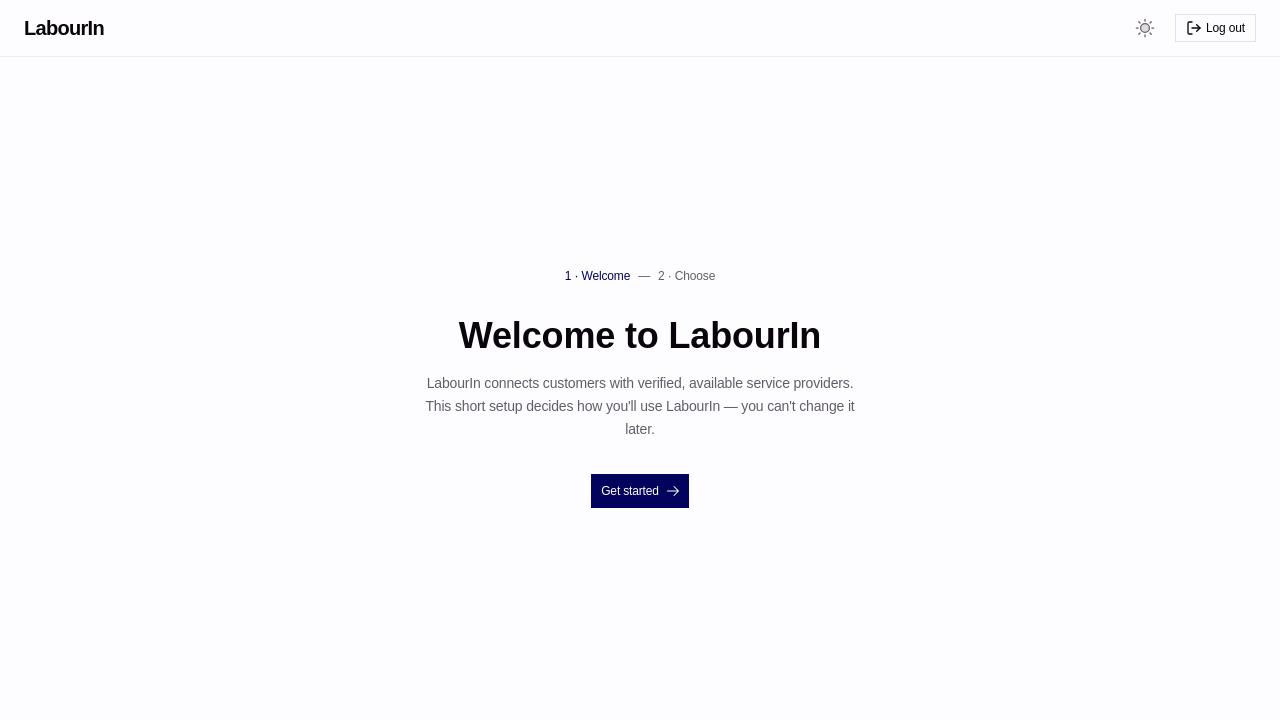
it: RoleSelectionWizard › renders Welcome then Choose steps
The image size is (1280, 720).
Expected: the heading "Welcome to LabourIn" is shown, [459,315,821,356]
Click the button "Get started": (640, 491) [590,473,690,509]
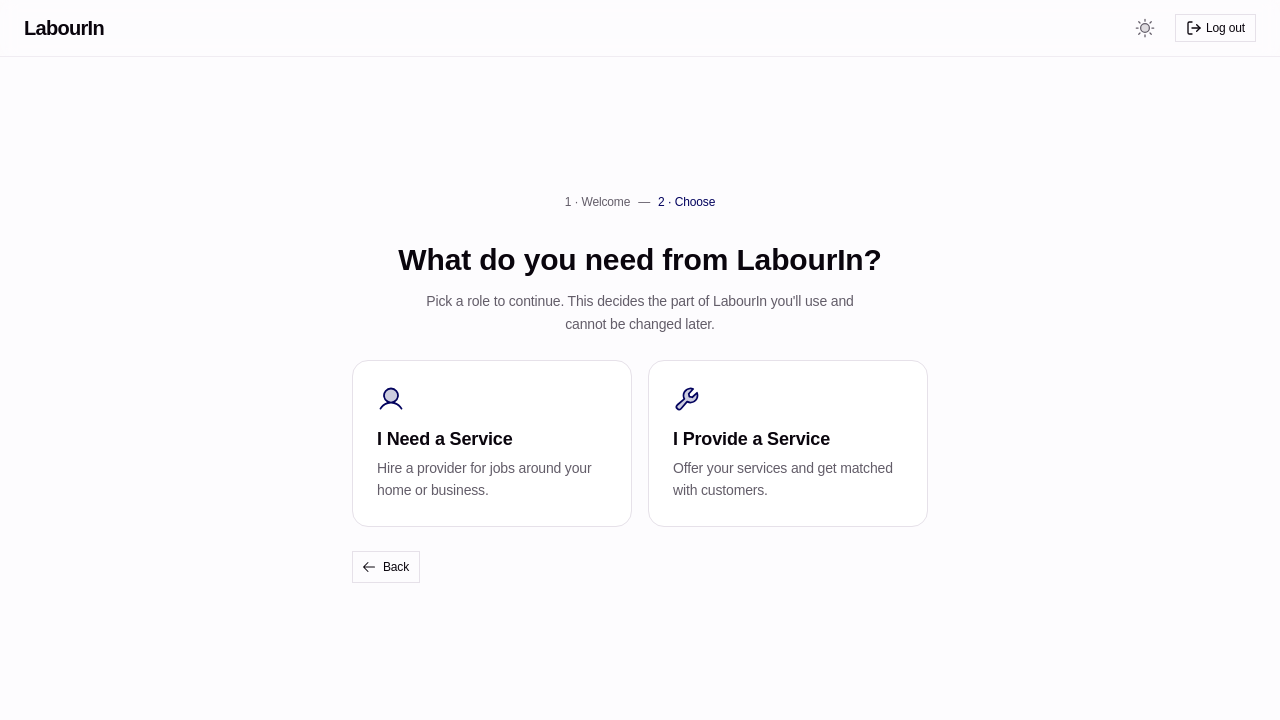
Expected: the heading "What do you need from LabourIn?" is shown, [398,243,882,276]
